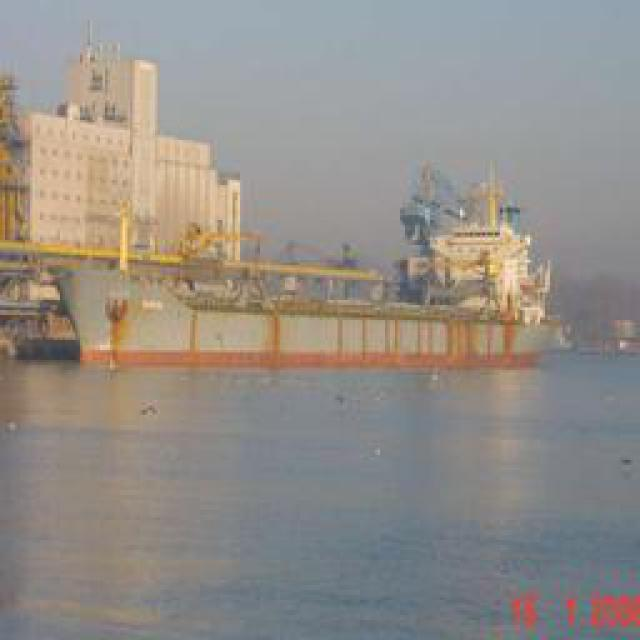Ship: (51, 157, 548, 374)
